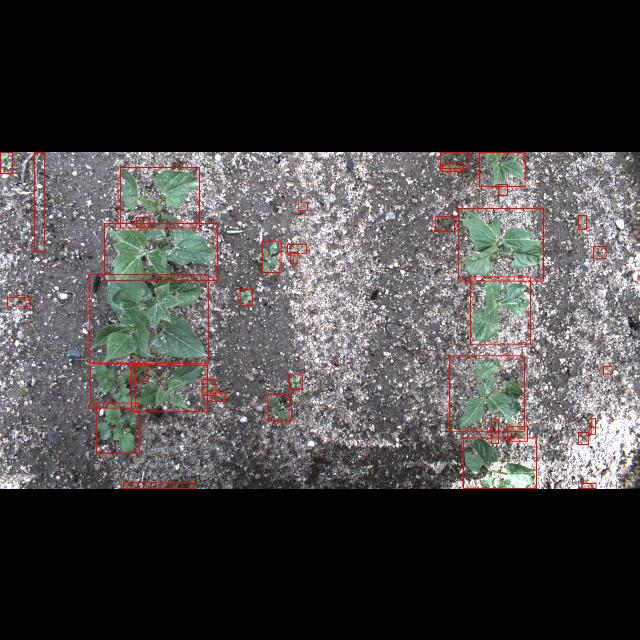crop: (90, 274, 208, 362), (458, 208, 544, 280), (450, 355, 524, 431), (120, 167, 200, 227), (470, 276, 530, 344), (464, 438, 536, 488), (131, 365, 207, 411), (480, 152, 524, 186), (123, 482, 195, 488)
weed: (105, 222, 218, 280), (96, 402, 140, 453), (90, 362, 136, 408), (34, 151, 44, 251), (262, 240, 282, 272), (268, 394, 292, 420), (440, 151, 468, 167), (132, 363, 148, 381), (507, 426, 527, 440), (436, 216, 454, 230), (0, 152, 12, 172), (202, 379, 216, 395), (290, 374, 302, 390), (240, 288, 252, 304), (288, 243, 306, 253), (8, 298, 30, 306), (442, 163, 463, 171), (594, 246, 606, 258), (492, 419, 498, 443), (136, 216, 150, 226), (212, 392, 226, 402), (579, 432, 589, 444), (578, 215, 586, 229), (498, 183, 508, 194), (298, 200, 308, 210), (590, 418, 596, 434), (290, 251, 298, 263), (602, 366, 612, 374), (582, 484, 596, 488)
